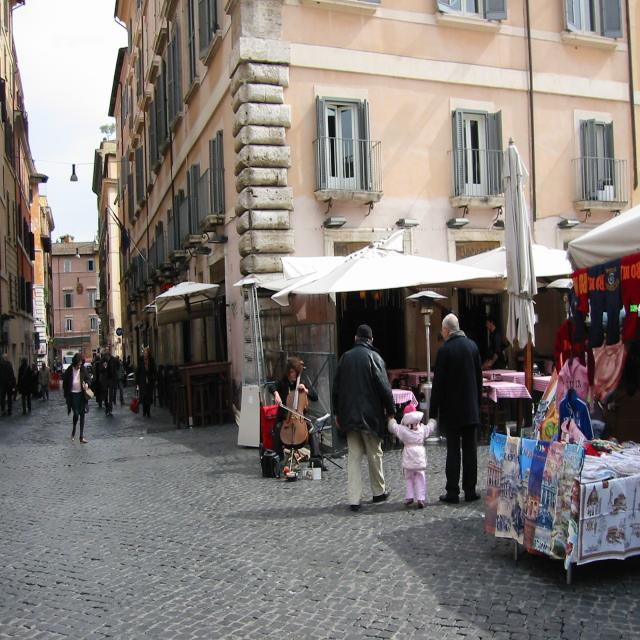cello: (279, 358, 312, 449)
